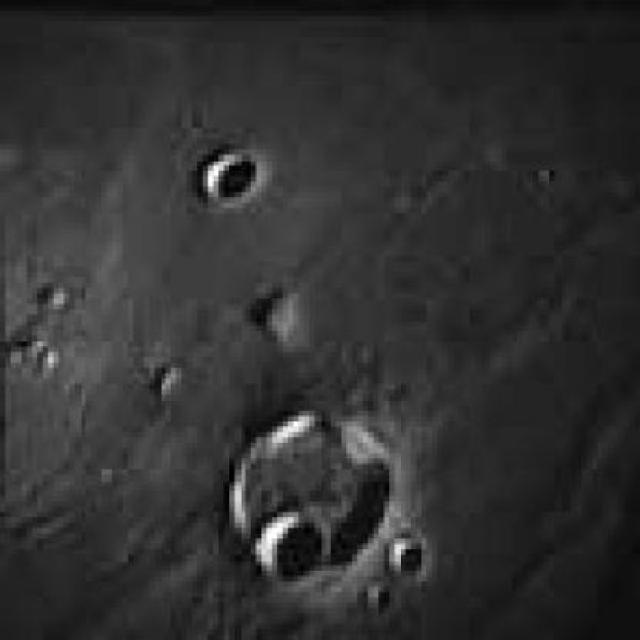crater: (238, 420, 397, 585), (269, 518, 326, 580), (210, 155, 258, 202), (389, 538, 426, 584)
